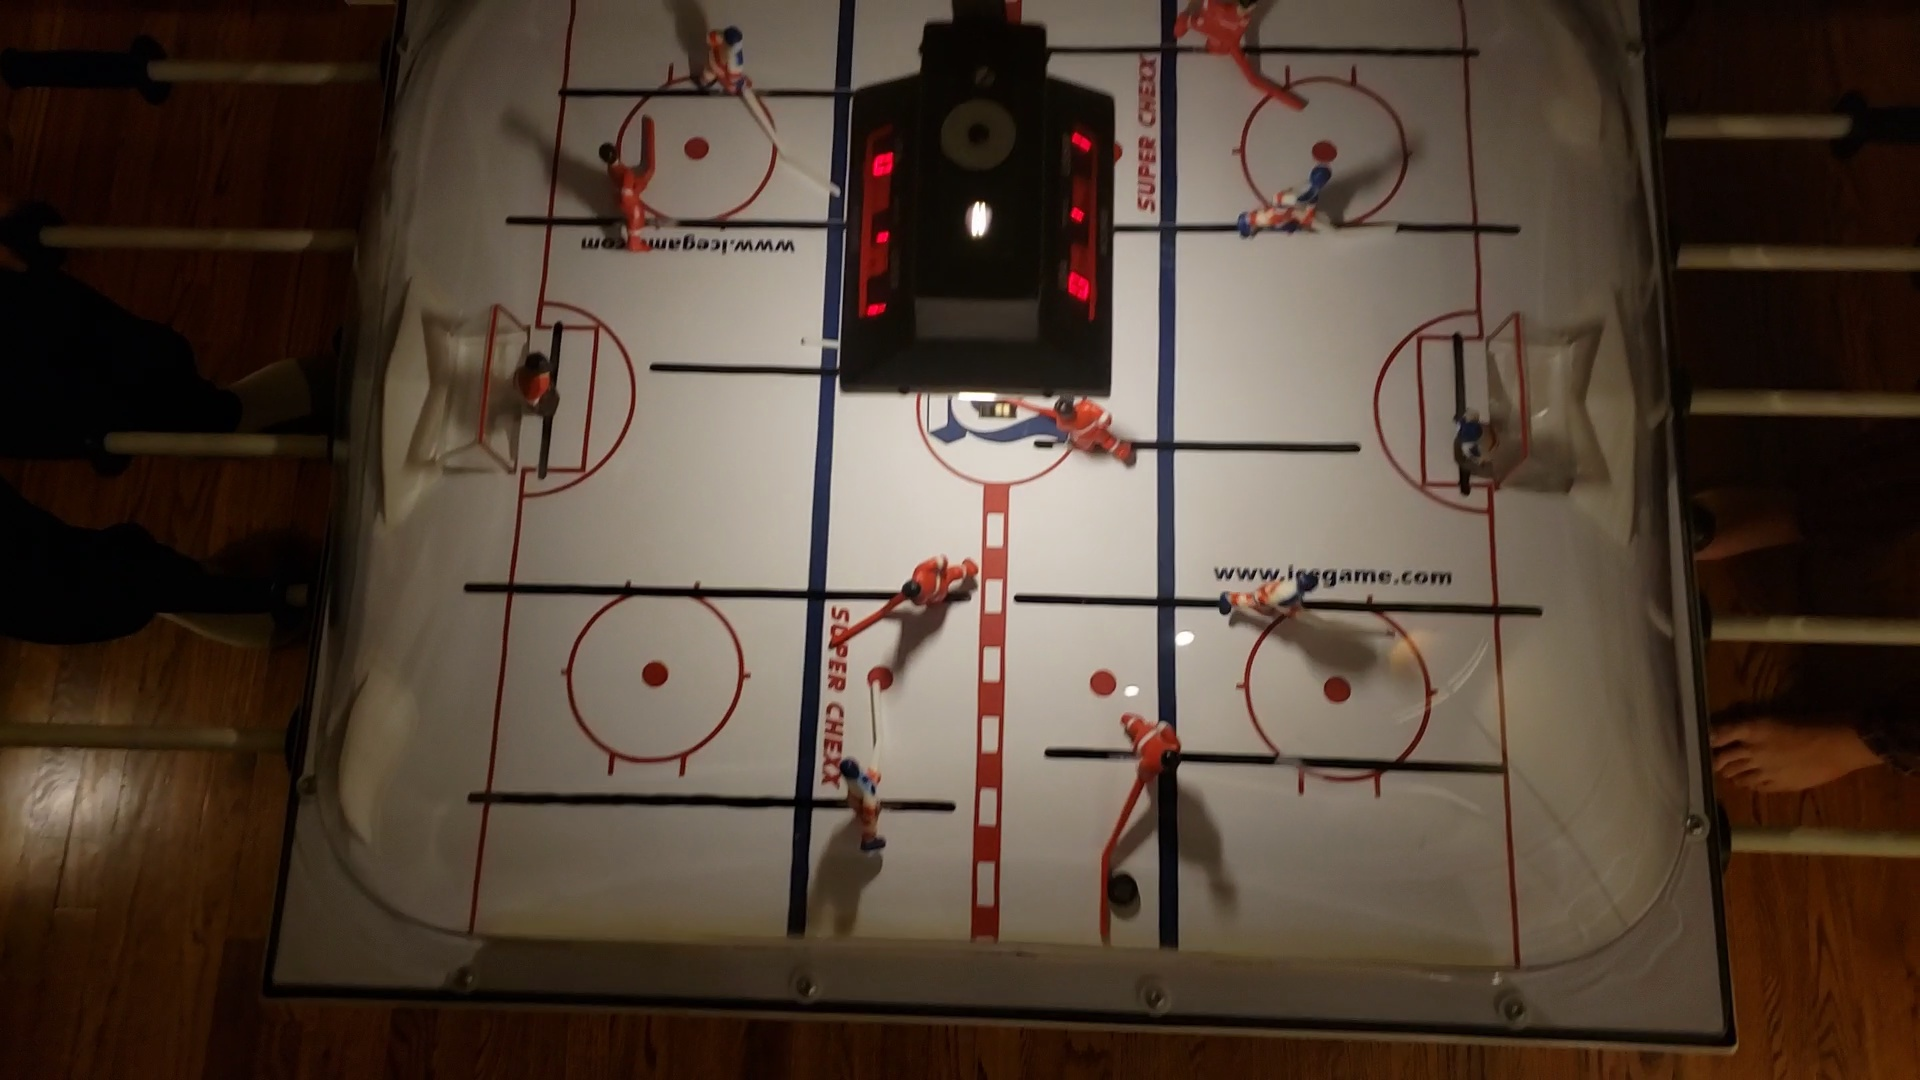puck: (1102, 872, 1142, 913)
